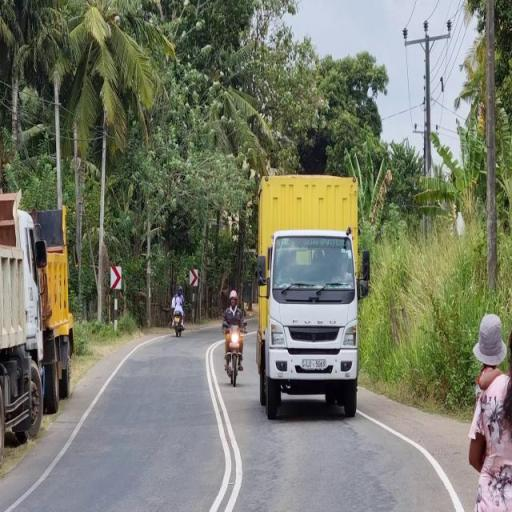double_white_line: (204, 337, 245, 512)
